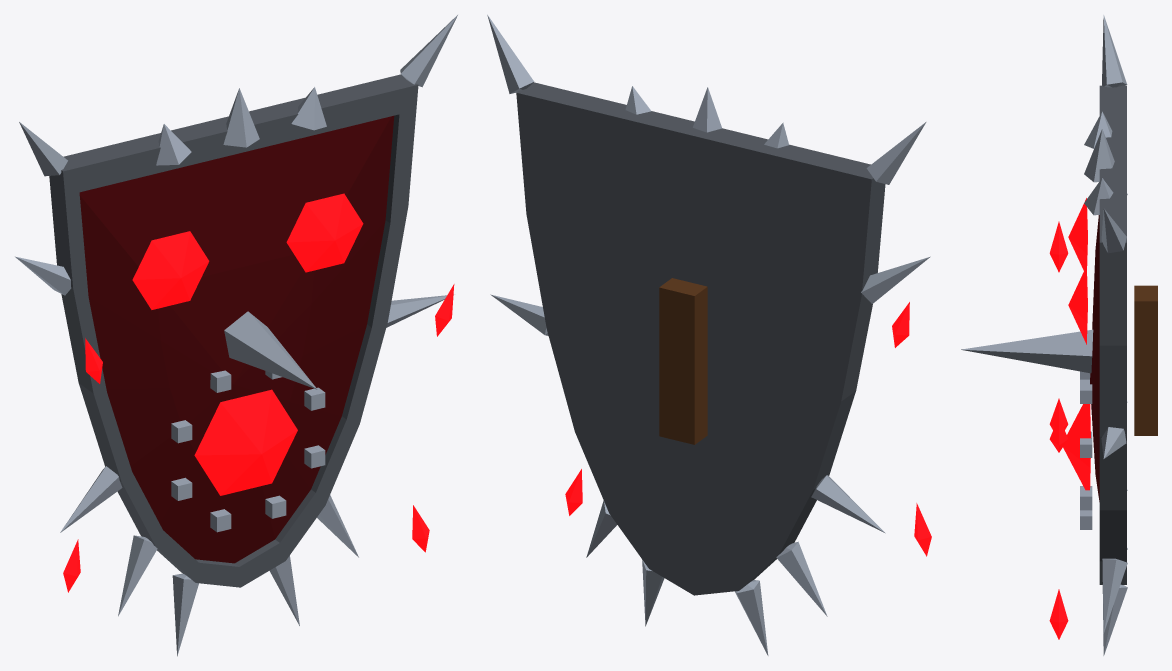
The model's file is shield_spiked_mythic.glb.
3 views of the same model, side by side, from view 1: azimuth 30°, elevation 25°; view 2: azimuth 150°, elevation 25°; view 3: azimuth 270°, elevation 25° (orthographic). The views are drawn at different scales.
Parts seen in each view (by area): view 1: shield_spiked_mythic_export; view 2: shield_spiked_mythic_export; view 3: shield_spiked_mythic_export.
Part boxes in pixels (<box>): shield_spiked_mythic_export: <box>15,15,457,656</box>; shield_spiked_mythic_export: <box>487,14,931,655</box>; shield_spiked_mythic_export: <box>961,15,1157,655</box>.
Bounding box in the file's own units: 74.94 × 92.61 × 32.
